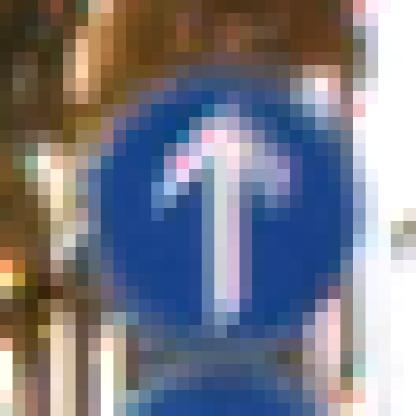AheadOnly: (77, 66, 354, 352)
